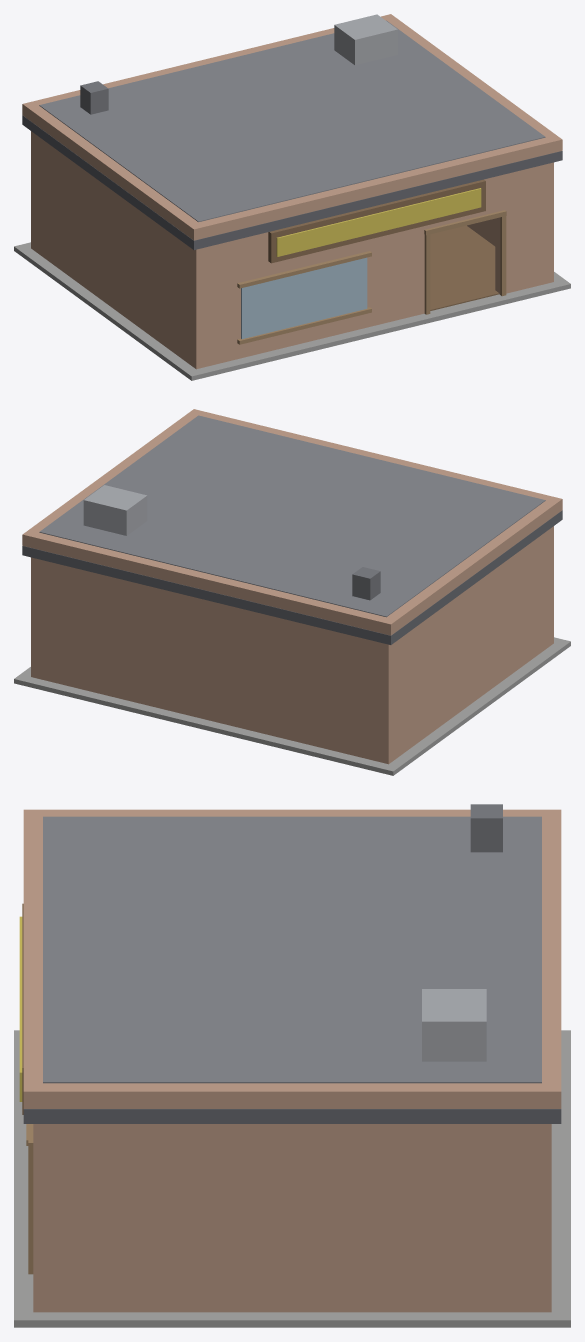
The model's file is Dukkan_Rehinci.glb.
The picture shows the model from 3 angles, top to bottom: view 1: azimuth 30°, elevation 25°; view 2: azimuth 150°, elevation 25°; view 3: azimuth 270°, elevation 25°; orthographic projection. The views are drawn at different scales.
Visible parts, largest first — view 1: Dukkan_Rehinci; view 2: Dukkan_Rehinci; view 3: Dukkan_Rehinci.
Boxes of the visible parts, bbox=[...] form: Dukkan_Rehinci: bbox=[14, 14, 570, 380]; Dukkan_Rehinci: bbox=[14, 409, 570, 775]; Dukkan_Rehinci: bbox=[14, 804, 570, 1327].
Size of the model in its own units: 10.6 by 4.65 by 8.6.
